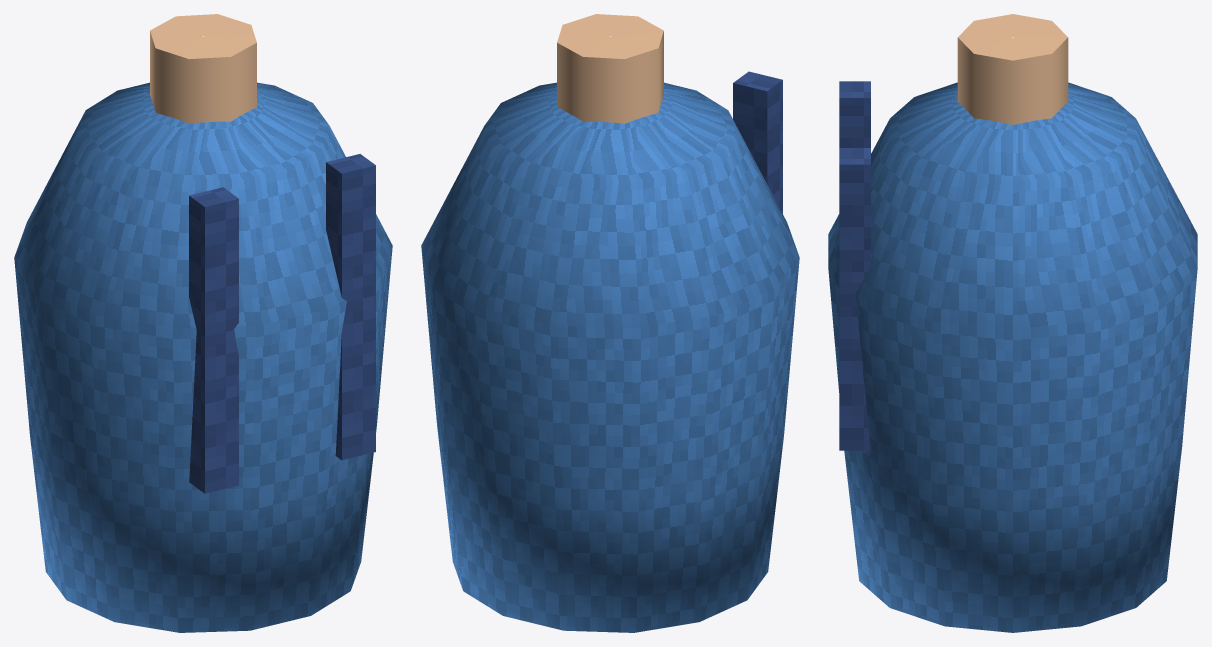
Rendered from farmer-torso.gltf.
3 renders of one model, left to right at view 1: azimuth 30°, elevation 25°; view 2: azimuth 150°, elevation 25°; view 3: azimuth 270°, elevation 25°, orthographic.
Bounding box in the file's own units: 0.48 × 0.75 × 0.468.
Materials: 2 (1 with a texture image).
